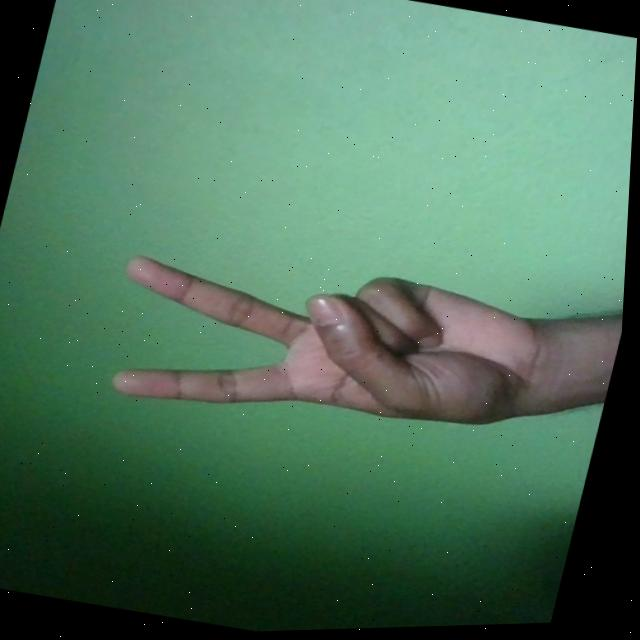Peace: (96, 223, 571, 473)
